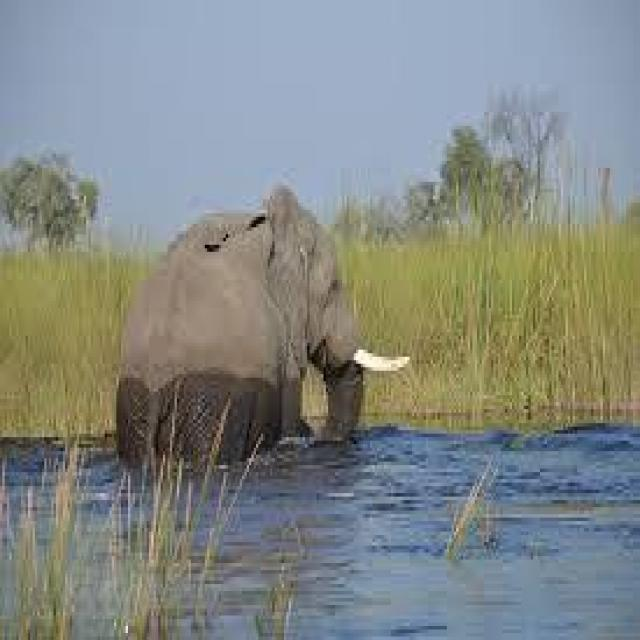Elephant: (114, 178, 363, 462)
